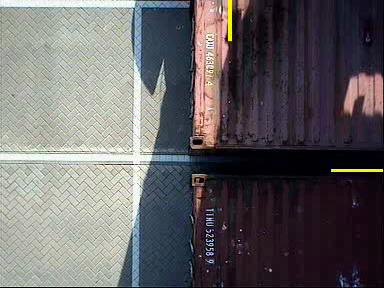groundmarker_2: (198, 152, 246, 203)
